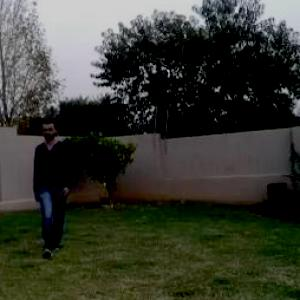follow: (32, 121, 74, 255)
